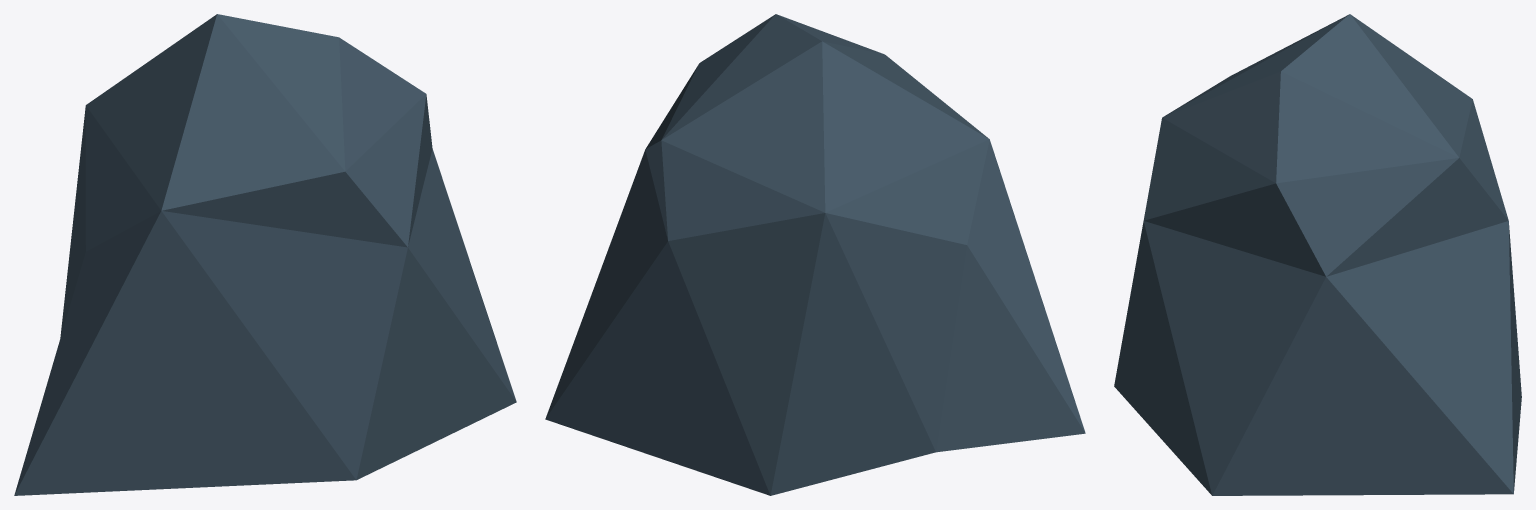
File: rock1.gltf
The picture shows the model from 3 angles, left to right: view 1: azimuth 30°, elevation 25°; view 2: azimuth 150°, elevation 25°; view 3: azimuth 270°, elevation 25°; orthographic projection. The views are drawn at different scales.
Parts seen in each view (by area): view 1: Rock 1_542; view 2: Rock 1_542; view 3: Rock 1_542.
Boxes of the visible parts, x1,y1,x2,y2 form: Rock 1_542: (14,14,516,495); Rock 1_542: (545,14,1085,495); Rock 1_542: (1114,14,1521,495).
Bounding box in the file's own units: 1.63 × 1.4 × 1.28.
